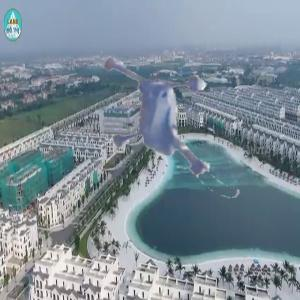drone: (97, 45, 261, 209)
